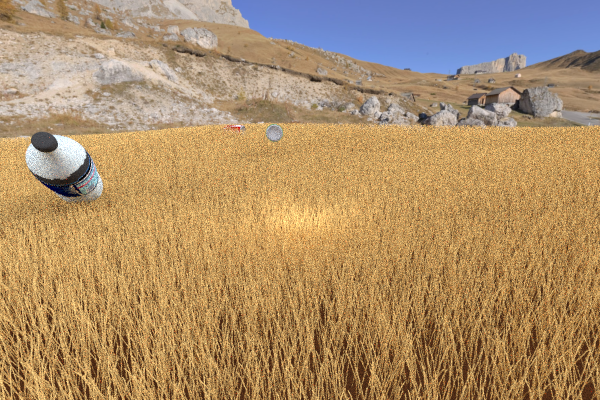bottle: (25, 131, 103, 204)
can: (220, 124, 246, 137), (265, 123, 283, 141)
